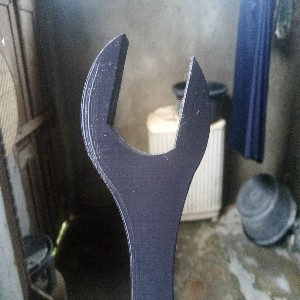spanner: (80, 31, 212, 300)
